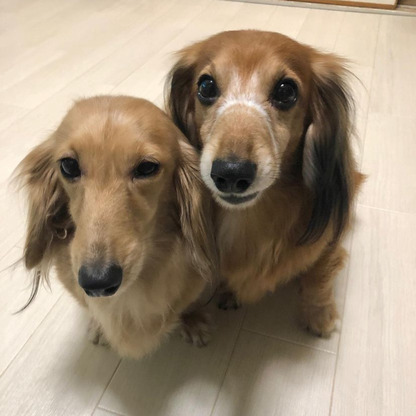dachshund: (173, 47, 372, 343), (36, 100, 184, 354)
